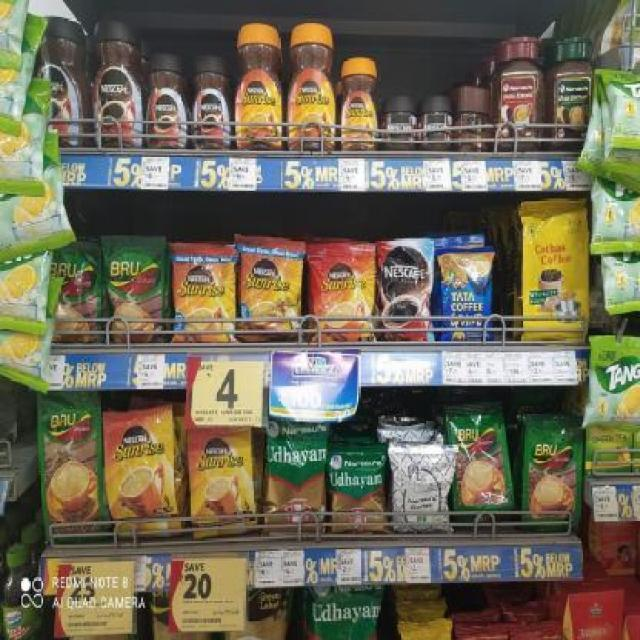Coffee: (107, 413, 177, 536), (86, 18, 142, 150), (231, 26, 284, 149), (288, 21, 339, 146), (237, 240, 302, 337), (37, 15, 84, 148), (189, 430, 248, 532), (309, 246, 372, 338), (377, 245, 434, 342), (173, 249, 233, 340), (145, 57, 188, 150), (191, 57, 232, 148), (340, 59, 378, 149), (425, 96, 456, 148), (386, 97, 417, 144)
